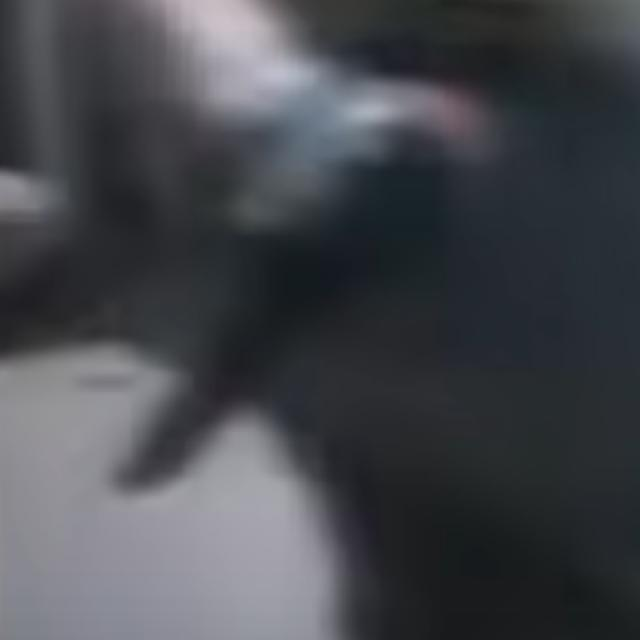Fknife: (108, 143, 348, 516)
